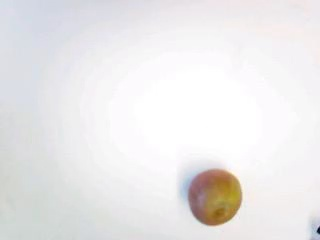apple: (185, 165, 242, 227)
